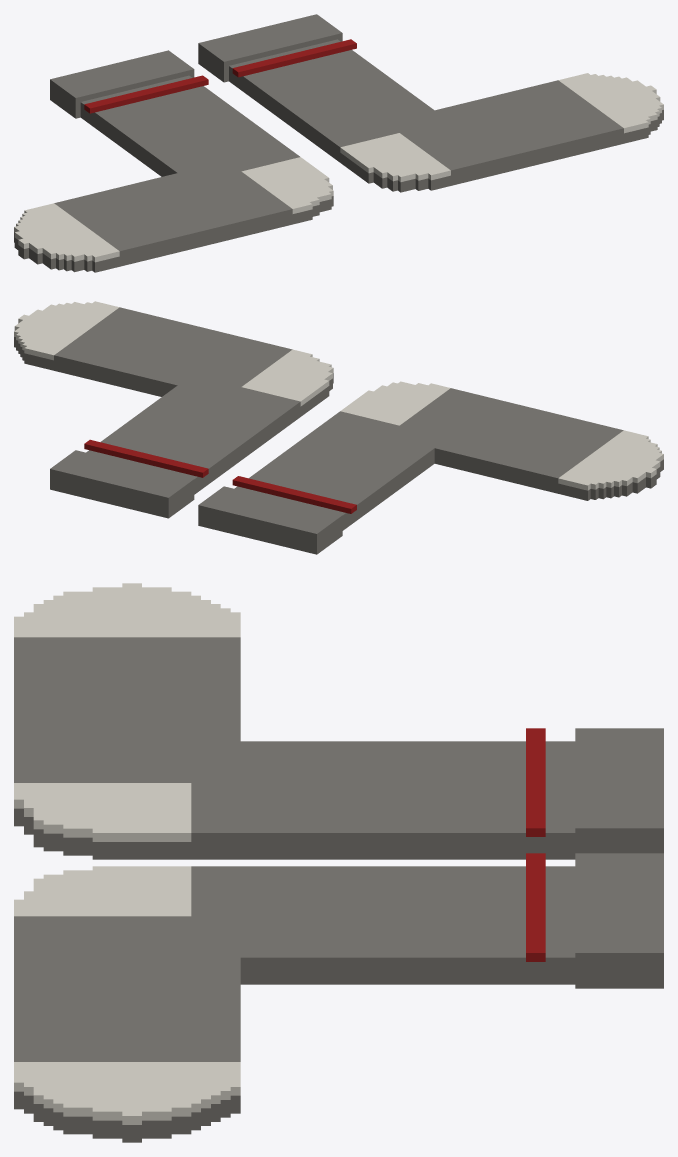
File: socks_wool.glb
3 renders of one model, top to bottom at view 1: azimuth 30°, elevation 25°; view 2: azimuth 150°, elevation 25°; view 3: azimuth 270°, elevation 25°, orthographic. The views are drawn at different scales.
Parts seen in each view (by area): view 1: socks_wool:compound; view 2: socks_wool:compound; view 3: socks_wool:compound.
Part boxes in pixels (x1,y1,x2,y2): socks_wool:compound: (14, 14, 663, 272); socks_wool:compound: (14, 301, 663, 554); socks_wool:compound: (14, 583, 663, 1142).
Size of the model in its own units: 0.512 by 0.016 by 0.264.
